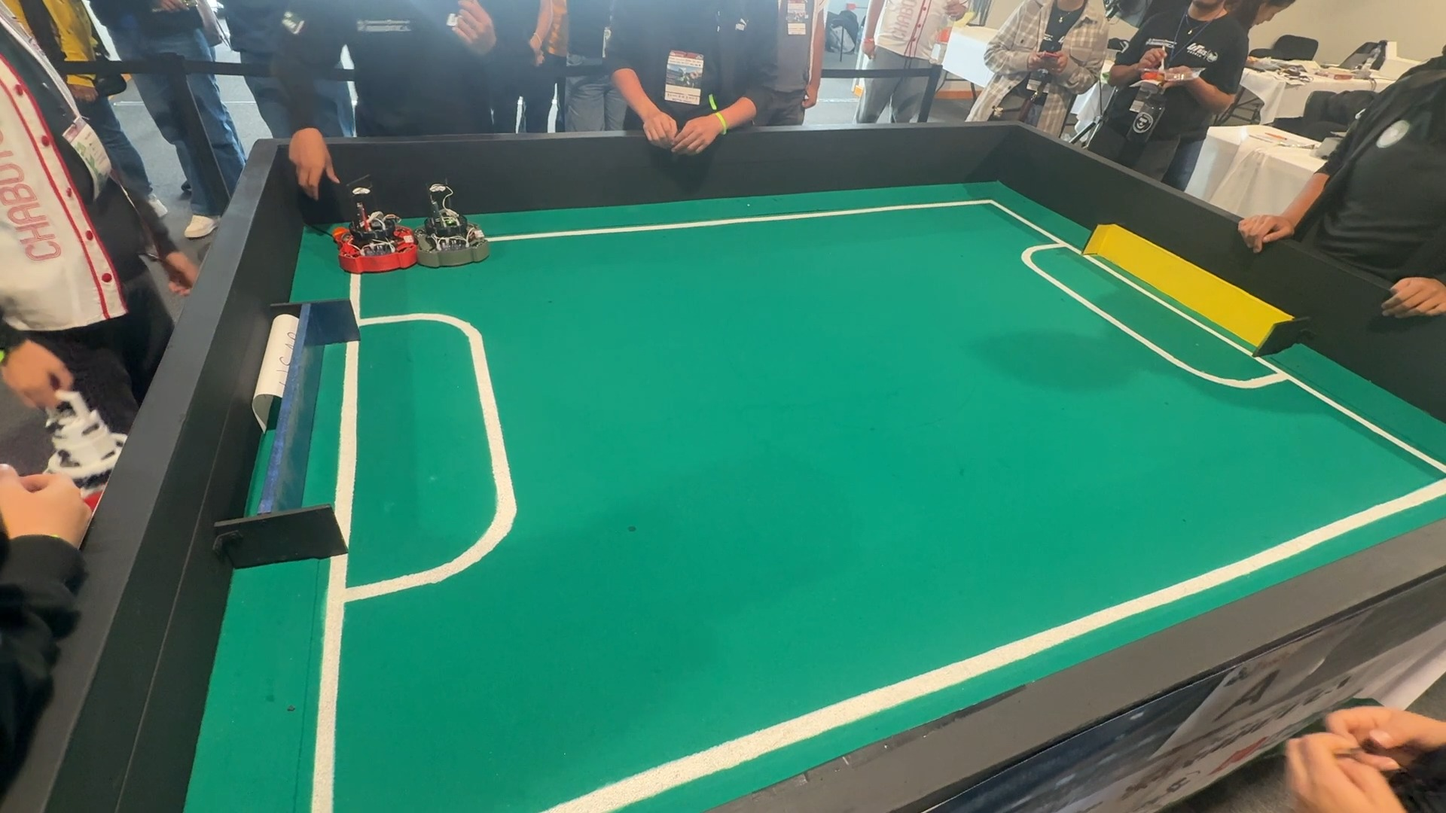Robot: (423, 178, 500, 273), (334, 205, 415, 271)
